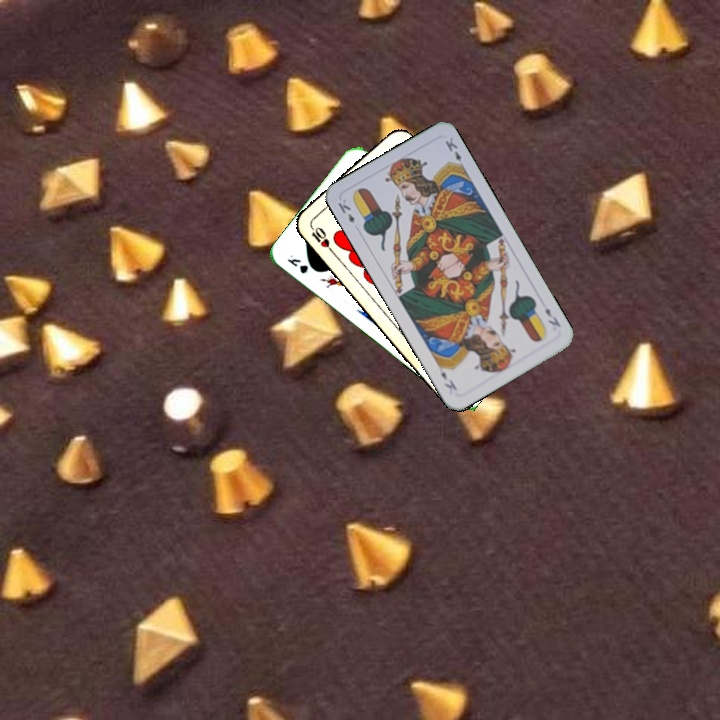EK: (334, 195, 357, 226), (541, 304, 563, 330)
GK: (283, 251, 311, 276)
H10: (306, 221, 336, 255)
